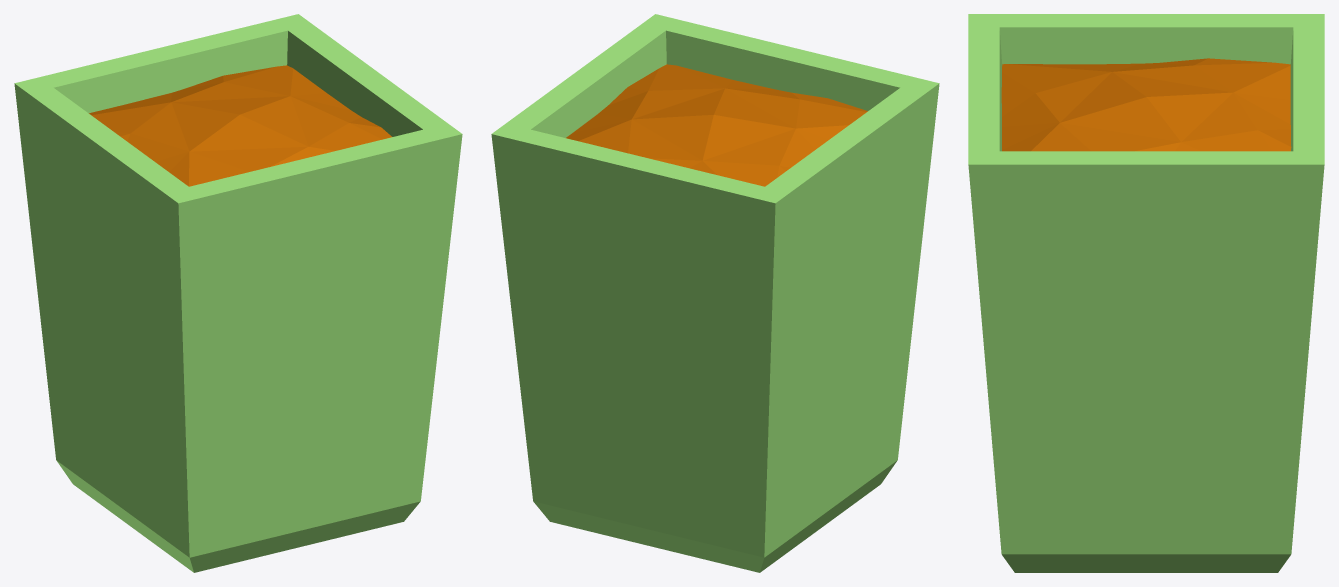
File: Pot_Rect_1c.fbx
3 renders of one model, left to right at view 1: azimuth 30°, elevation 25°; view 2: azimuth 150°, elevation 25°; view 3: azimuth 270°, elevation 25°, orthographic. The views are drawn at different scales.
Parts seen in each view (by area): view 1: Pot_Rect_1c; view 2: Pot_Rect_1c; view 3: Pot_Rect_1c.
Part boxes in pixels (box(x1,y1,x2,y2)): Pot_Rect_1c: box(14, 14, 462, 572); Pot_Rect_1c: box(491, 14, 939, 572); Pot_Rect_1c: box(968, 14, 1324, 572).
Bounding box in the file's own units: 0.3998 × 0.5302 × 0.3998.
